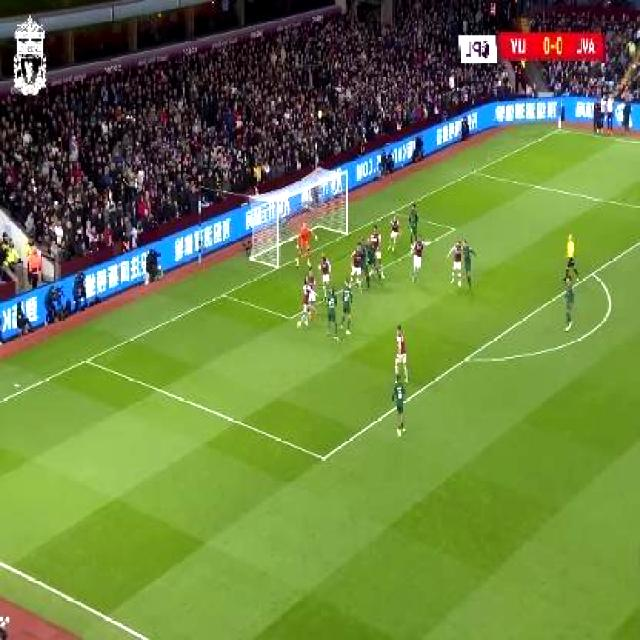bigarea_bottom_inner: (316, 443, 332, 472)
bigarea_bottom_outter: (83, 352, 94, 366)
bigarea_top_outter: (469, 166, 478, 179)
bottom_arc_area_intersection: (458, 351, 472, 369)
corner: (556, 126, 566, 134)
smallarea_bottom_inner: (283, 306, 297, 325)
smallarea_bottom_outter: (217, 284, 231, 302)
smallarea_top_inner: (449, 222, 460, 236)
smallarea_top_outter: (388, 206, 398, 217)
top_arc_area_intersection: (590, 266, 598, 279)
